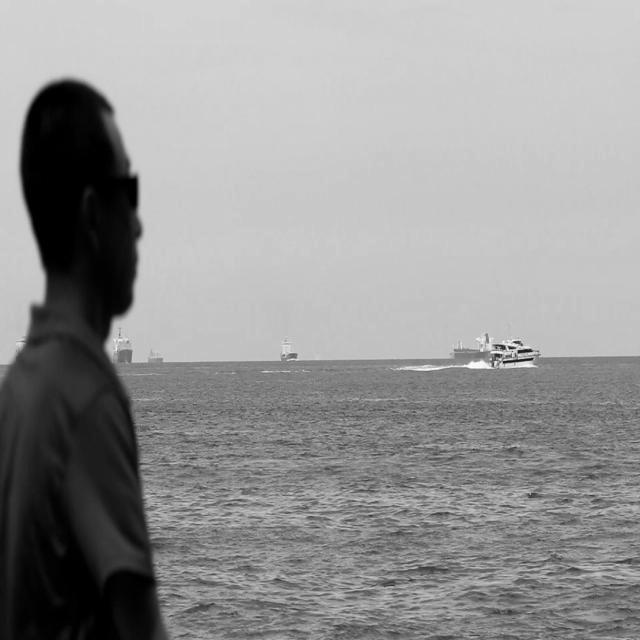ship: (485, 338, 543, 369), (110, 326, 136, 374), (453, 333, 491, 361), (276, 326, 302, 364), (146, 336, 168, 372), (10, 319, 28, 357)
